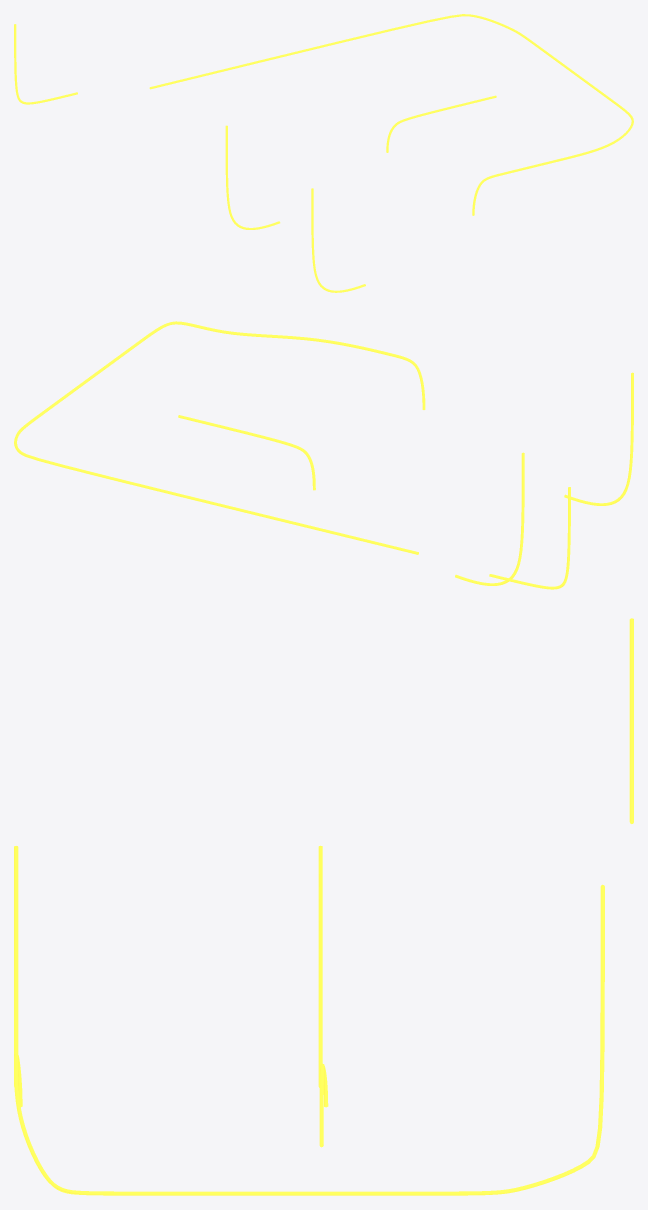
File: AL_Storage tank.fbx
3 renders of one model, top to bottom at view 1: azimuth 30°, elevation 25°; view 2: azimuth 150°, elevation 25°; view 3: azimuth 270°, elevation 25°, orthographic. The views are drawn at different scales.
Visible parts, largest first — view 1: selang.013; view 2: selang.013; view 3: selang.013.
Part boxes in pixels (x1,y1,x2,y2): selang.013: (14,14,633,292); selang.013: (14,321,633,589); selang.013: (14,618,633,1195).
Size of the model in its own units: 59.74 by 21.76 by 38.48.
